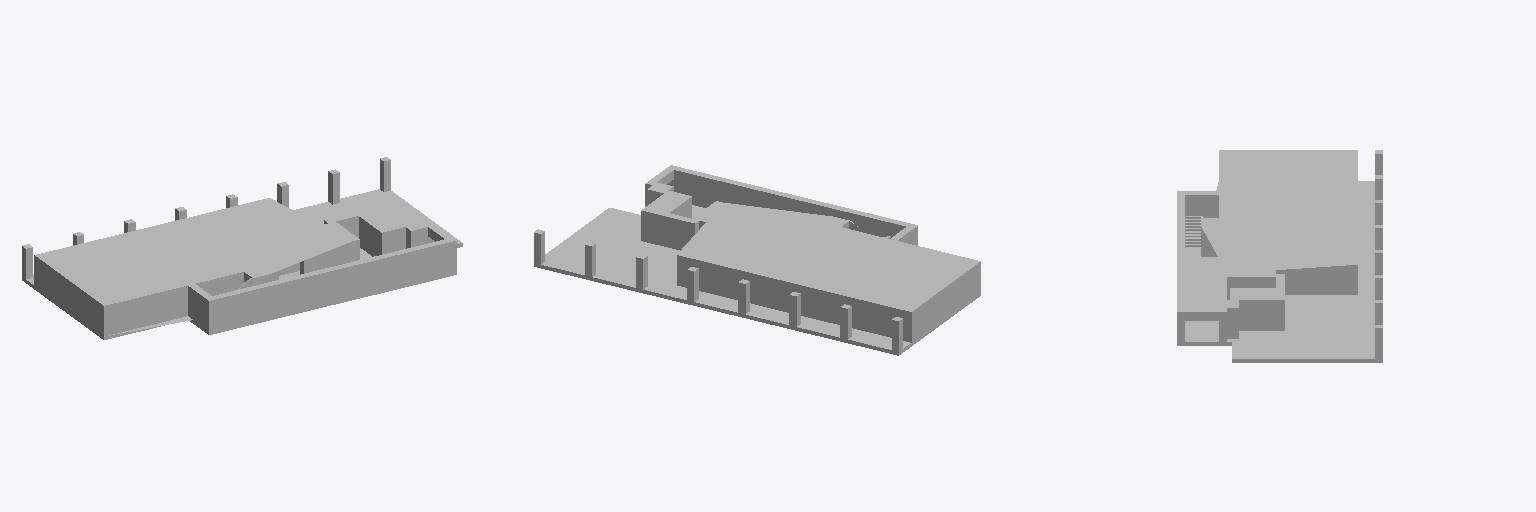
The model's file is 3dMap_cafe_1F.obj.
3 renders of one model, left to right at view 1: azimuth 30°, elevation 25°; view 2: azimuth 150°, elevation 25°; view 3: azimuth 270°, elevation 25°, orthographic.
Parts seen in each view (by area): view 1: wall_C_1F_立方体.087, floor_C_1F_立方体.076, pillar_C_1F-2_立方体.099, pillar_C_1F-1_立方体.098; view 2: wall_C_1F_立方体.087, floor_C_1F_立方体.076, pillar_C_1F-2_立方体.099; view 3: wall_C_1F_立方体.087, floor_C_1F_立方体.076, pillar_C_1F-2_立方体.099, Str_C_1F_立方体.088.
Boxes of the visible parts, x1=… form: wall_C_1F_立方体.087: x1=34, y1=198, x2=456, y2=335; floor_C_1F_立方体.076: x1=22, y1=189, x2=462, y2=339; pillar_C_1F-2_立方体.099: x1=22, y1=157, x2=390, y2=278; pillar_C_1F-1_立方体.098: x1=66, y1=227, x2=311, y2=331; wall_C_1F_立方体.087: x1=641, y1=165, x2=980, y2=342; floor_C_1F_立方体.076: x1=534, y1=205, x2=980, y2=355; pillar_C_1F-2_立方体.099: x1=534, y1=229, x2=902, y2=351; wall_C_1F_立方体.087: x1=1177, y1=150, x2=1357, y2=341; floor_C_1F_立方体.076: x1=1177, y1=181, x2=1382, y2=362; pillar_C_1F-2_立方体.099: x1=1375, y1=150, x2=1382, y2=358; Str_C_1F_立方体.088: x1=1185, y1=216, x2=1202, y2=256.
Size of the model in its own units: 37.5 by 3.44 by 18.38.